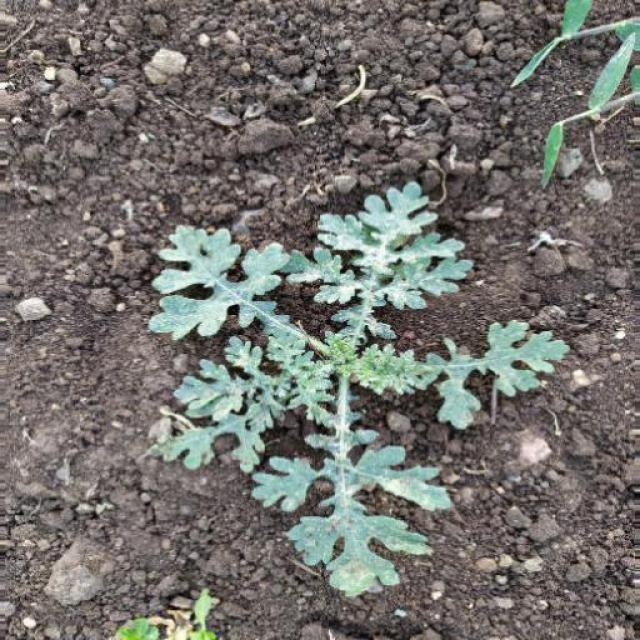weed: (144, 185, 570, 591)
